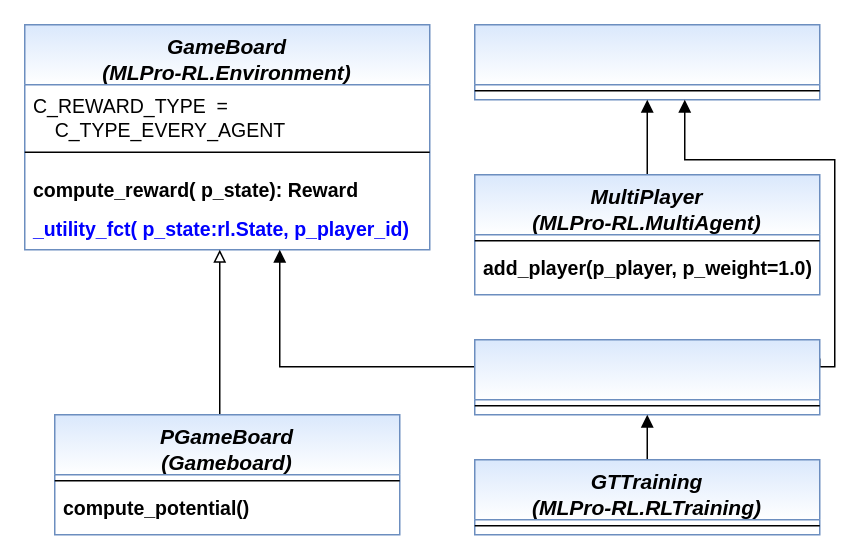
Image size: 860x560. Some labels were removed from this diagram. The centre of each missing label's shape, as x and y in pixels:
"Game (MLPro-RL.RLScenario)" belongs at (x=646, y=376).
"Player (MLPro-RL.Agent)" belongs at (x=646, y=61).
